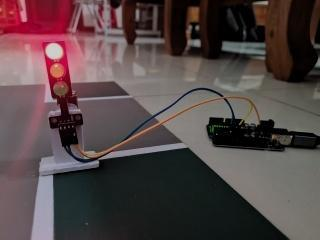red: (34, 35, 83, 111)
